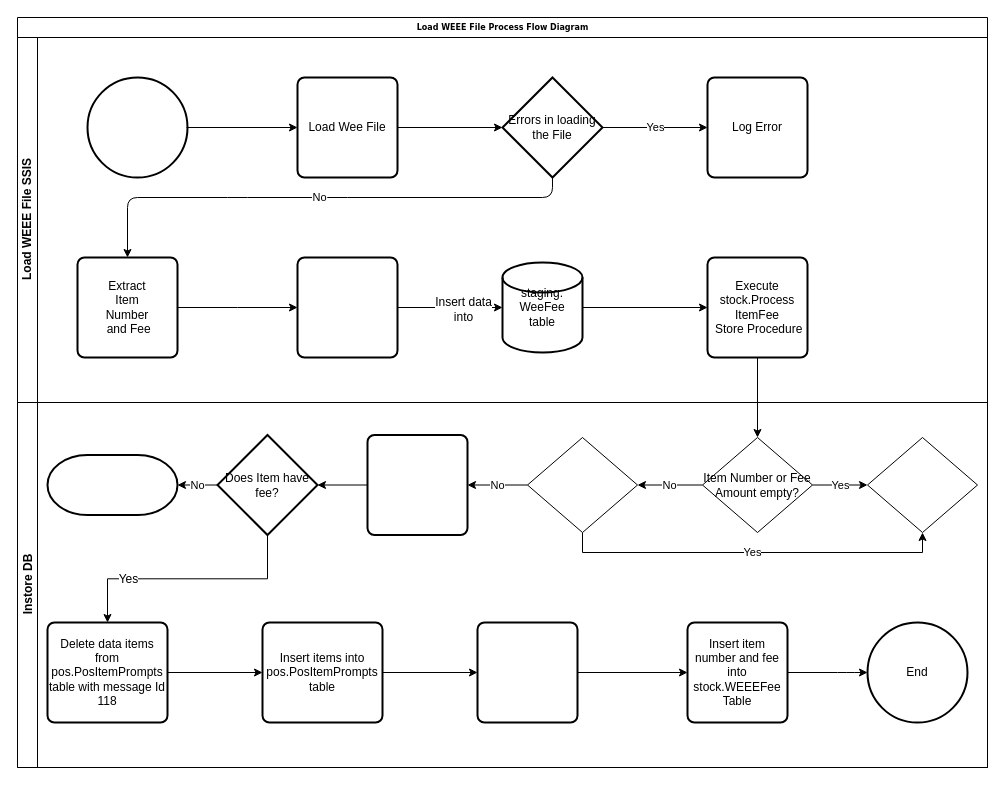
This 1005x785 diagram has some shape labels left out. The shapes that lost their labels are listed below. From the top down, each one's centre as x and y in pixels, then its label:
At [137,127]: "Start".
At [347,307]: "Truncate staging table".
At [112,485]: "Ignore Items".
At [417,485]: "Retrieve data from staging.WeeFee table".
At [582,484]: "Is Item Number less than 6 characters?".
At [922,484]: "Raise Error".
At [527,672]: "Delete Items from stock.WEEEFee table".
